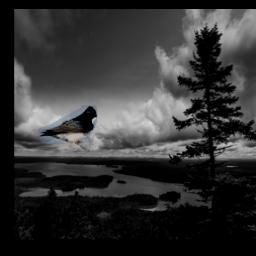Swallow: (38, 106, 97, 149)
